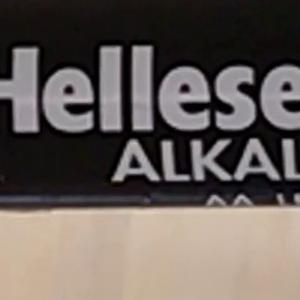ALK: (102, 130, 224, 191)
